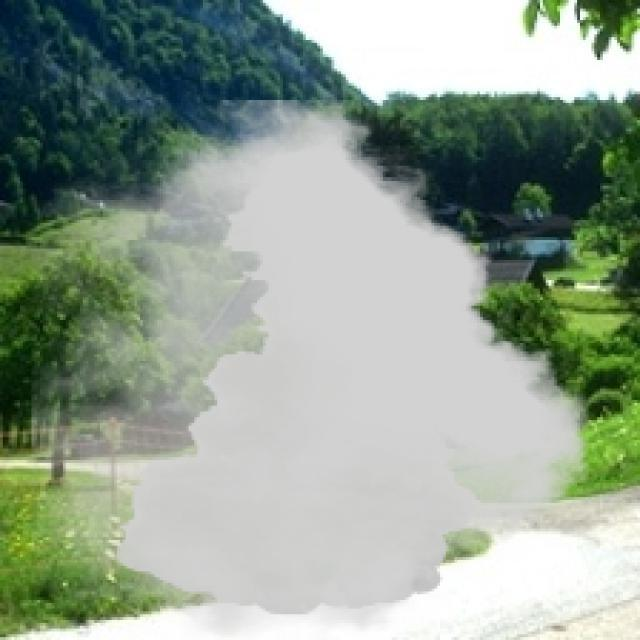Smoke: (31, 100, 592, 637)
